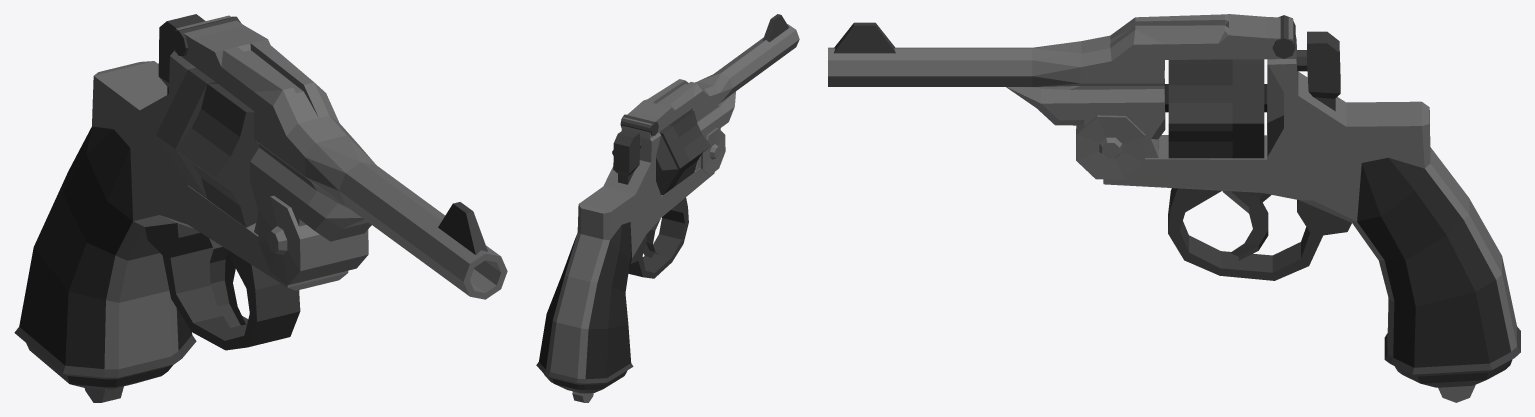
File: Type26_Gun.glb
3 views of the same model, side by side, from view 1: azimuth 30°, elevation 25°; view 2: azimuth 150°, elevation 25°; view 3: azimuth 270°, elevation 25° (orthographic). The views are drawn at different scales.
Parts seen in each view (by area): view 1: Type26_Gun; view 2: Type26_Gun; view 3: Type26_Gun.
Boxes of the visible parts, left/top/right/bottom form: Type26_Gun: left=14, top=14, right=507, bottom=402; Type26_Gun: left=536, top=14, right=799, bottom=402; Type26_Gun: left=828, top=14, right=1520, bottom=402.
Bounding box in the file's own units: 0.0635 × 0.2083 × 0.3473.
Materials: 1 (1 with a texture image).
